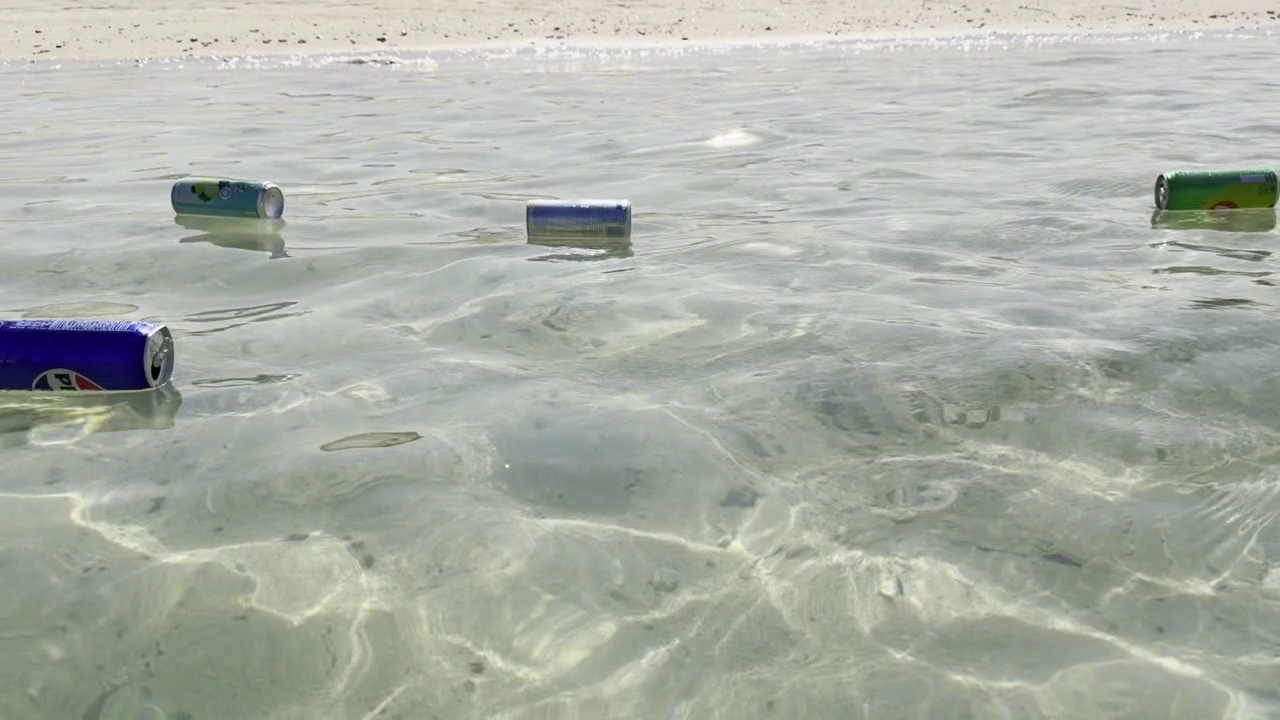debris: (0, 310, 182, 423), (156, 171, 290, 229), (516, 192, 639, 247), (1150, 160, 1228, 218)
